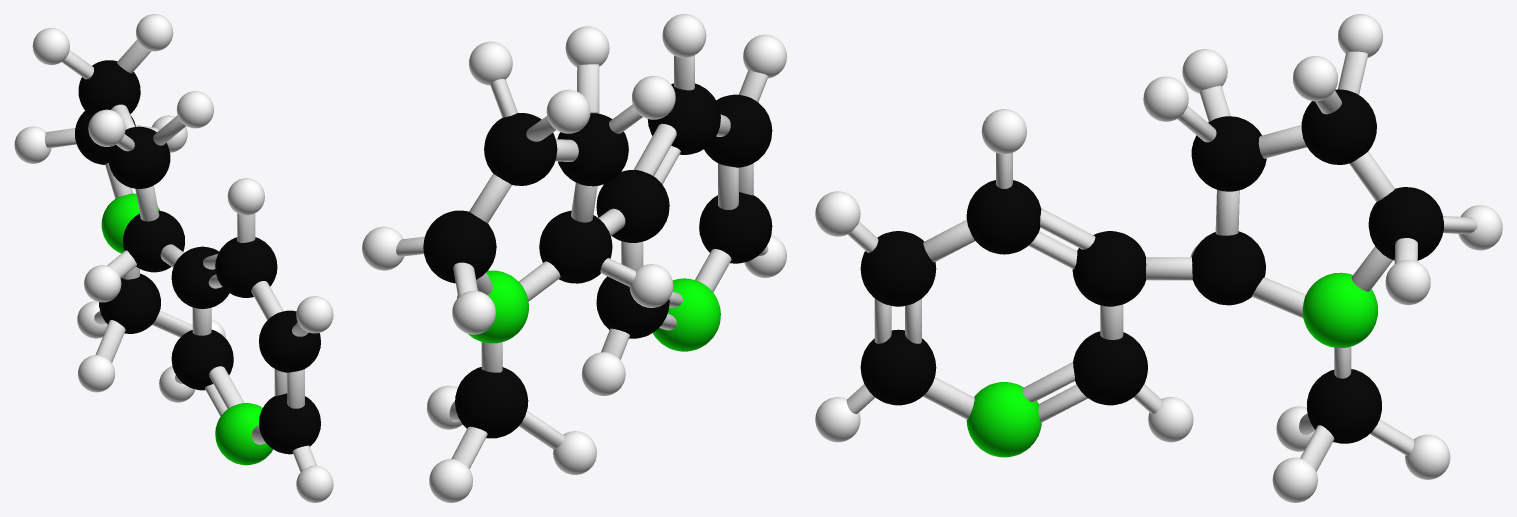
3 renders of one model, left to right at view 1: azimuth 30°, elevation 25°; view 2: azimuth 150°, elevation 25°; view 3: azimuth 270°, elevation 25°, orthographic. The views are drawn at different scales.
Parts seen in each view (by area): view 1: 6(C)-C-C-3, 6(C)-C-N-1, 5(C)-C-C-2, 6(C)-N-C-1, 6(C)-C-C-1, 5(C)-C-C-1, 5(C)-C-C-3, 6(N)-C-C-1, 3(C)-N-1, 6(C)-C-C-2, 5(N)-C-C-1, 5-H-6 (+28 smaller); view 2: 3(C)-N-1, 5(C)-C-C-3, 5(C)-C-C-1, 5(C)-C-N-1, 6(C)-C-C-2, 6(C)-C-N-1, 6(C)-C-C-1, 5(C)-C-C-2, 6(N)-C-C-1, 6(C)-C-C-3, 6(C)-N-C-1, 5(N)-C-C-1 (+34 smaller); view 3: 5(N)-C-C-1, 6(C)-C-C-3, 5(C)-C-C-1, 6(C)-C-C-1, 6(C)-C-C-2, 6(C)-N-C-1, 6(N)-C-C-1, 6(C)-C-N-1, 3(C)-N-1, 5(C)-C-C-2, 5(C)-C-C-3, 5(C)-C-N-1 (+30 smaller).
Part boxes in pixels (bbox=[...]): 6(C)-C-C-3: bbox=[215, 237, 277, 297]; 6(C)-C-N-1: bbox=[259, 393, 320, 454]; 5(C)-C-C-2: bbox=[108, 126, 170, 188]; 6(C)-N-C-1: bbox=[171, 329, 233, 390]; 6(C)-C-C-1: bbox=[259, 310, 320, 372]; 5(C)-C-C-1: bbox=[123, 210, 184, 272]; 5(C)-C-C-3: bbox=[78, 60, 140, 116]; 6(N)-C-C-1: bbox=[215, 403, 273, 465]; 3(C)-N-1: bbox=[99, 273, 160, 333]; 6(C)-C-C-2: bbox=[171, 246, 229, 308]; 5(N)-C-C-1: bbox=[101, 193, 159, 253]; 5-H-6: bbox=[88, 109, 125, 146]; 3(C)-N-1: bbox=[455, 367, 528, 438]; 5(C)-C-C-3: bbox=[484, 113, 557, 185]; 5(C)-C-C-1: bbox=[539, 210, 612, 283]; 5(C)-C-N-1: bbox=[423, 210, 496, 283]; 6(C)-C-C-2: bbox=[596, 170, 669, 242]; 6(C)-C-N-1: bbox=[699, 192, 772, 263]; 6(C)-C-C-1: bbox=[704, 94, 772, 167]; 5(C)-C-C-2: bbox=[557, 113, 628, 186]; 6(N)-C-C-1: bbox=[653, 278, 720, 351]; 6(C)-C-C-3: bbox=[647, 83, 720, 154]; 6(C)-N-C-1: bbox=[596, 276, 669, 338]; 5(N)-C-C-1: bbox=[457, 270, 528, 343]; 5(N)-C-C-1: bbox=[1302, 272, 1377, 348]; 6(C)-C-C-3: bbox=[966, 180, 1041, 254]; 5(C)-C-C-1: bbox=[1192, 231, 1265, 305]; 6(C)-C-C-1: bbox=[860, 231, 936, 306]; 6(C)-C-C-2: bbox=[1072, 231, 1146, 306]; 6(C)-N-C-1: bbox=[1073, 331, 1147, 405]; 6(N)-C-C-1: bbox=[966, 382, 1041, 457]; 6(C)-C-N-1: bbox=[860, 329, 936, 405]; 3(C)-N-1: bbox=[1307, 369, 1381, 443]; 5(C)-C-C-2: bbox=[1191, 116, 1266, 191]; 5(C)-C-C-3: bbox=[1301, 89, 1376, 164]; 5(C)-C-N-1: bbox=[1368, 187, 1443, 260].
Bounding box in the file's own units: 830 × 1567 × 2272.
